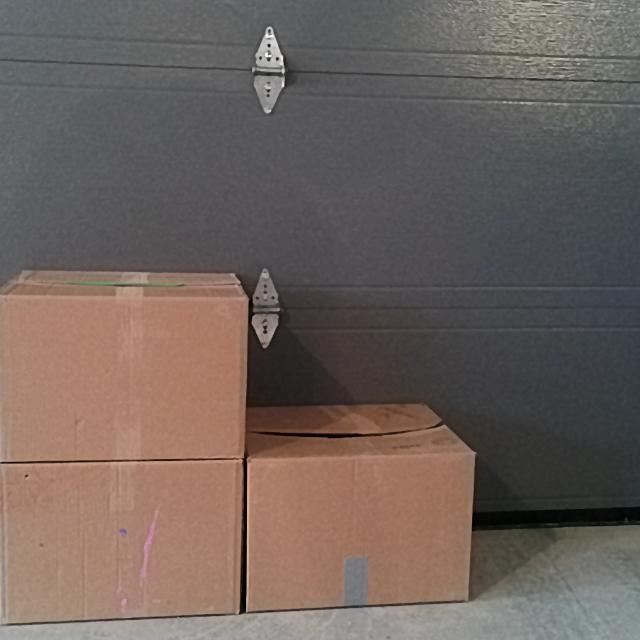box: (0, 299, 246, 460), (0, 463, 241, 618), (247, 452, 470, 606)
